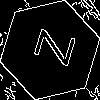Z: (25, 25, 76, 67)
